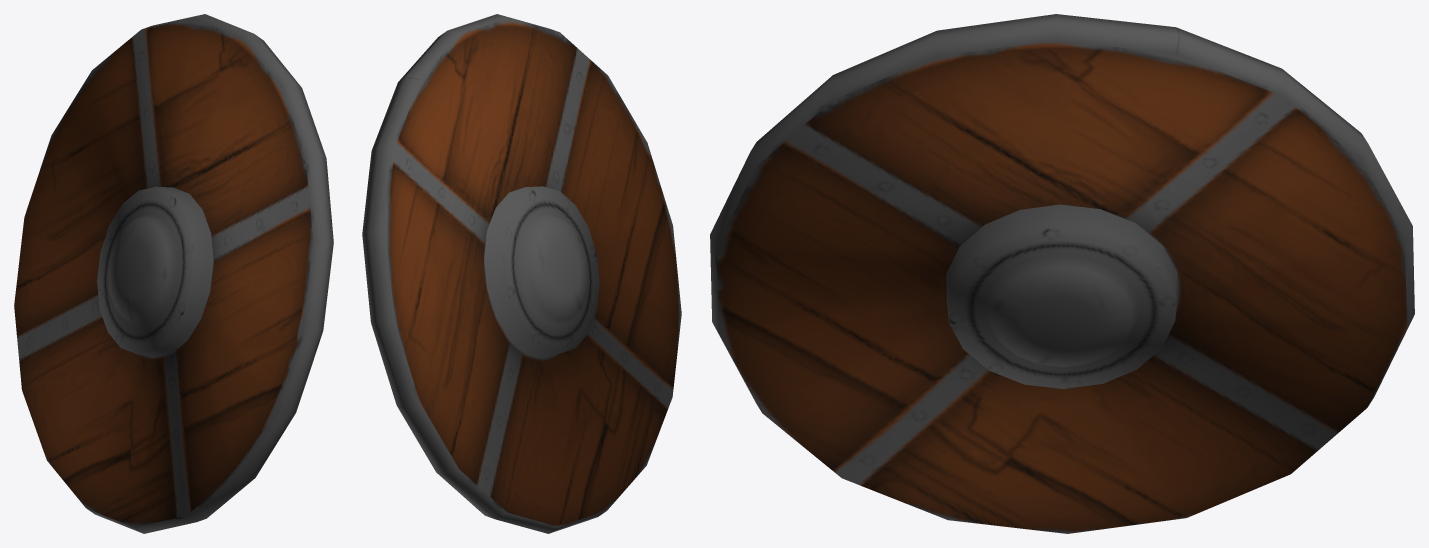
File: schild.FBX
3 views of the same model, side by side, from view 1: azimuth 30°, elevation 25°; view 2: azimuth 150°, elevation 25°; view 3: azimuth 270°, elevation 25° (orthographic). The views are drawn at different scales.
Parts seen in each view (by area): view 1: Object008; view 2: Object008; view 3: Object008.
Boxes of the visible parts, box(x1,y1,x2,y2) form: Object008: box(14, 14, 333, 533); Object008: box(362, 14, 681, 533); Object008: box(710, 14, 1414, 533).
Bounding box in the file's own units: 8.2 × 21.15 × 20.13.
1 material, 1 textured.
